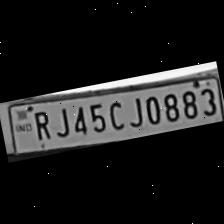0: (139, 91, 163, 128)
3: (194, 82, 218, 120)
4: (65, 102, 89, 138)
5: (83, 99, 108, 136)
8: (158, 89, 182, 126), (176, 85, 200, 122)
C: (103, 96, 128, 133)
J: (121, 92, 145, 130), (48, 104, 72, 140)
R: (25, 106, 52, 144)
